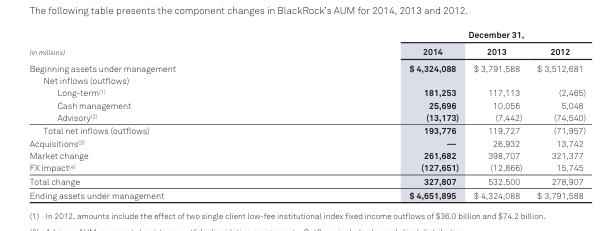table: (28, 28, 585, 200)
table column: (28, 28, 291, 200), (291, 28, 465, 200), (465, 28, 528, 200), (528, 28, 585, 200)
table column header: (28, 28, 585, 59)
table projected row header: (28, 74, 585, 86)
table row: (28, 42, 585, 59), (28, 59, 585, 74), (28, 28, 585, 42), (28, 110, 585, 123), (28, 123, 585, 136), (28, 148, 585, 161), (28, 161, 585, 174), (28, 174, 585, 187), (28, 187, 585, 200), (28, 74, 585, 86), (28, 86, 585, 98), (28, 98, 585, 110), (28, 136, 585, 148)
table spanning cell: (28, 28, 291, 59), (291, 28, 585, 42)
